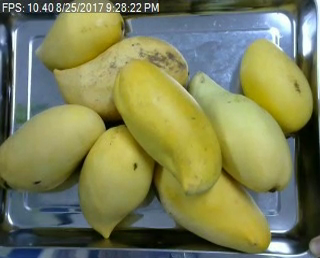Mango: (114, 60, 220, 193), (189, 67, 291, 190), (153, 151, 272, 252), (55, 36, 188, 121), (0, 105, 106, 191), (78, 123, 155, 238), (240, 39, 313, 133), (37, 1, 125, 71)
